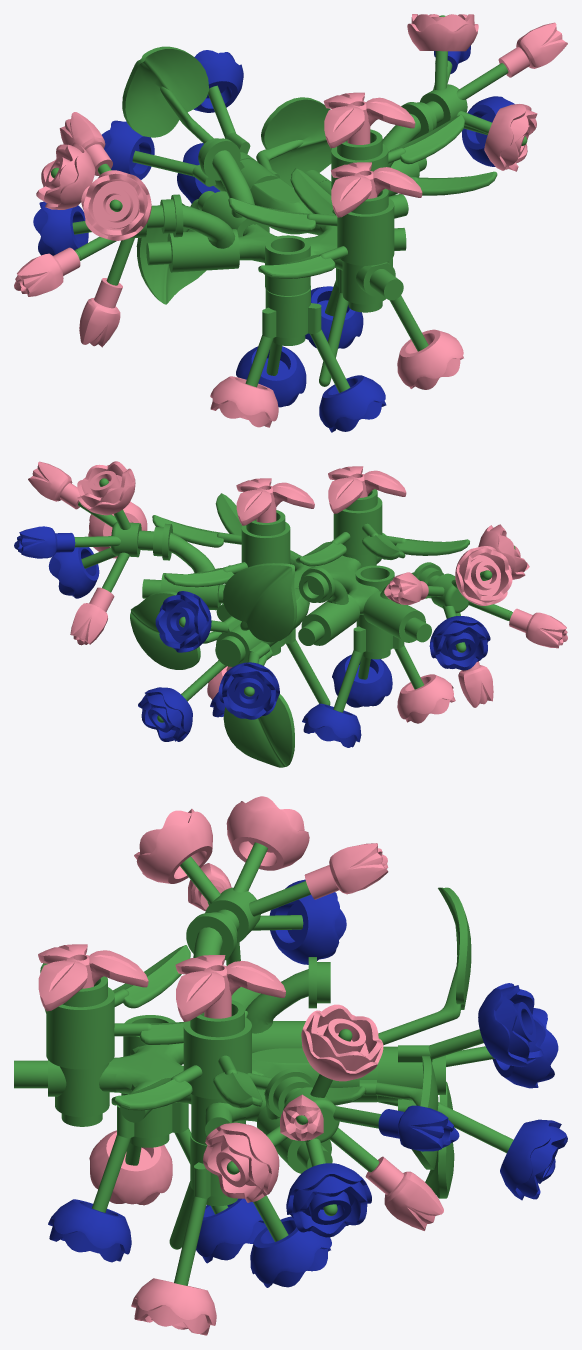
File: Rosas azul.dae
The picture shows the model from 3 angles, top to bottom: view 1: azimuth 30°, elevation 25°; view 2: azimuth 150°, elevation 25°; view 3: azimuth 270°, elevation 25°; orthographic projection. The views are drawn at different scales.
Visible parts, largest first — view 1: Inner-Node-Rosas___28_1_29__dot_io-4, Inner-Node-Rosas___28_1_29__dot_io-1, Inner-Node-Rosas___28_1_29__dot_io-30, Inner-Node-Rosas___28_1_29__dot_io-7, Inner-Node-Rosas___28_1_29__dot_io-2, Inner-Node-Rosas___28_1_29__dot_io-31, Inner-Node-Rosas___28_1_29__dot_io-23, Inner-Node-Rosas___28_1_29__dot_io-6, Inner-Node-Rosas___28_1_29__dot_io-33, Inner-Node-Rosas___28_1_29__dot_io-32, Inner-Node-Rosas___28_1_29__dot_io-16, Inner-Node-Rosas___28_1_29__dot_io-14 (+20 smaller); view 2: Inner-Node-Rosas___28_1_29__dot_io-4, Inner-Node-Rosas___28_1_29__dot_io-31, Inner-Node-Rosas___28_1_29__dot_io-30, Inner-Node-Rosas___28_1_29__dot_io-6, Inner-Node-Rosas___28_1_29__dot_io-1, Inner-Node-Rosas___28_1_29__dot_io-16, Inner-Node-Rosas___28_1_29__dot_io-2, Inner-Node-Rosas___28_1_29__dot_io-0, Inner-Node-Rosas___28_1_29__dot_io-21, Inner-Node-Rosas___28_1_29__dot_io-5, Inner-Node-Rosas___28_1_29__dot_io-10, Inner-Node-Rosas___28_1_29__dot_io-7 (+20 smaller); view 3: Inner-Node-Rosas___28_1_29__dot_io-1, Inner-Node-Rosas___28_1_29__dot_io-31, Inner-Node-Rosas___28_1_29__dot_io-30, Inner-Node-Rosas___28_1_29__dot_io-4, Inner-Node-Rosas___28_1_29__dot_io-5, Inner-Node-Rosas___28_1_29__dot_io-17, Inner-Node-Rosas___28_1_29__dot_io-24, Inner-Node-Rosas___28_1_29__dot_io-27, Inner-Node-Rosas___28_1_29__dot_io-33, Inner-Node-Rosas___28_1_29__dot_io-28, Inner-Node-Rosas___28_1_29__dot_io-21, Inner-Node-Rosas___28_1_29__dot_io-10 (+21 smaller).
Boxes of the visible parts, <box> form: Inner-Node-Rosas___28_1_29__dot_io-4: <box>122,46,331,304</box>; Inner-Node-Rosas___28_1_29__dot_io-1: <box>238,170,408,312</box>; Inner-Node-Rosas___28_1_29__dot_io-30: <box>228,168,394,278</box>; Inner-Node-Rosas___28_1_29__dot_io-7: <box>146,194,239,272</box>; Inner-Node-Rosas___28_1_29__dot_io-2: <box>245,286,350,392</box>; Inner-Node-Rosas___28_1_29__dot_io-31: <box>331,114,497,195</box>; Inner-Node-Rosas___28_1_29__dot_io-23: <box>81,170,151,240</box>; Inner-Node-Rosas___28_1_29__dot_io-6: <box>197,138,269,236</box>; Inner-Node-Rosas___28_1_29__dot_io-33: <box>323,92,415,148</box>; Inner-Node-Rosas___28_1_29__dot_io-32: <box>331,162,422,217</box>; Inner-Node-Rosas___28_1_29__dot_io-16: <box>420,15,527,145</box>; Inner-Node-Rosas___28_1_29__dot_io-14: <box>397,329,463,389</box>; Inner-Node-Rosas___28_1_29__dot_io-4: <box>130,563,296,767</box>; Inner-Node-Rosas___28_1_29__dot_io-31: <box>152,493,290,587</box>; Inner-Node-Rosas___28_1_29__dot_io-30: <box>296,489,469,566</box>; Inner-Node-Rosas___28_1_29__dot_io-6: <box>298,566,359,645</box>; Inner-Node-Rosas___28_1_29__dot_io-1: <box>216,533,394,629</box>; Inner-Node-Rosas___28_1_29__dot_io-16: <box>74,478,153,592</box>; Inner-Node-Rosas___28_1_29__dot_io-2: <box>333,615,423,712</box>; Inner-Node-Rosas___28_1_29__dot_io-0: <box>218,662,279,719</box>; Inner-Node-Rosas___28_1_29__dot_io-21: <box>455,546,512,605</box>; Inner-Node-Rosas___28_1_29__dot_io-5: <box>157,616,270,722</box>; Inner-Node-Rosas___28_1_29__dot_io-10: <box>155,591,211,652</box>; Inner-Node-Rosas___28_1_29__dot_io-7: <box>363,562,443,642</box>; Inner-Node-Rosas___28_1_29__dot_io-1: <box>14,1015,319,1145</box>; Inner-Node-Rosas___28_1_29__dot_io-31: <box>111,1000,366,1110</box>; Inner-Node-Rosas___28_1_29__dot_io-30: <box>40,945,248,1069</box>; Inner-Node-Rosas___28_1_29__dot_io-4: <box>329,887,471,1198</box>; Inner-Node-Rosas___28_1_29__dot_io-5: <box>377,1029,547,1167</box>; Inner-Node-Rosas___28_1_29__dot_io-17: <box>180,842,310,965</box>; Inner-Node-Rosas___28_1_29__dot_io-24: <box>301,1004,383,1081</box>; Inner-Node-Rosas___28_1_29__dot_io-27: <box>286,1163,371,1237</box>; Inner-Node-Rosas___28_1_29__dot_io-33: <box>175,955,285,1021</box>; Inner-Node-Rosas___28_1_29__dot_io-28: <box>203,1122,279,1202</box>; Inner-Node-Rosas___28_1_29__dot_io-21: <box>226,796,309,870</box>; Inner-Node-Rosas___28_1_29__dot_io-10: <box>478,983,545,1067</box>.
Size of the model in its own units: 236 by 119 by 160.
